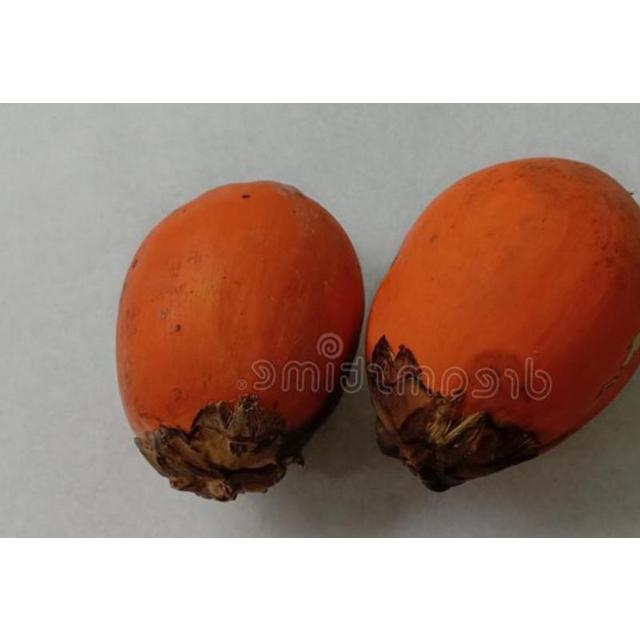good: (360, 156, 639, 493), (115, 180, 368, 503)
